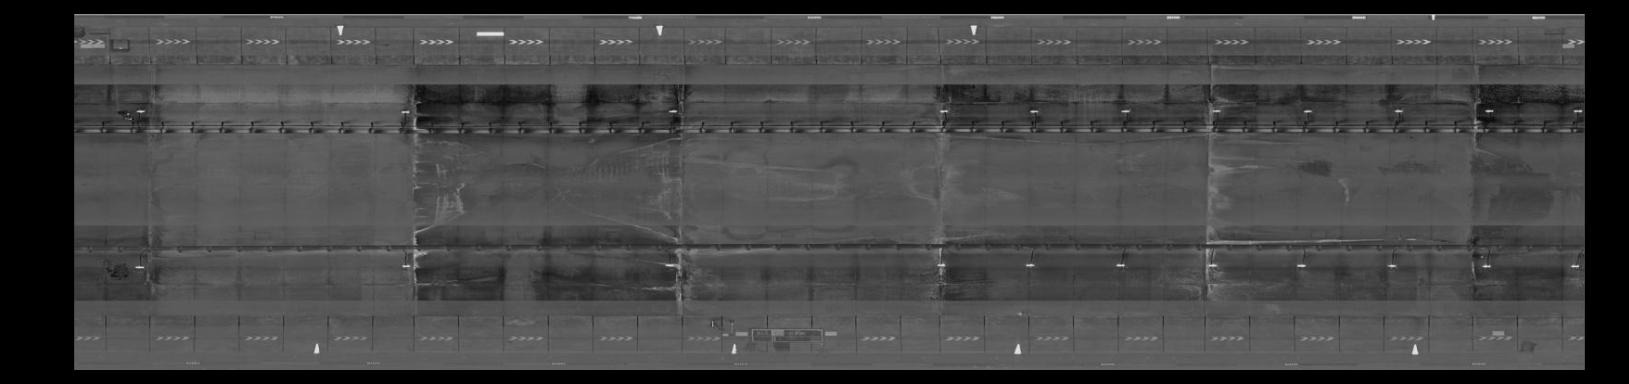light: (1381, 260, 1400, 272), (1027, 103, 1044, 116), (1020, 259, 1039, 271), (1386, 105, 1406, 115), (395, 260, 415, 271), (1206, 106, 1225, 116), (656, 260, 678, 269), (1474, 262, 1494, 271), (1479, 106, 1497, 116), (931, 260, 953, 269), (1297, 106, 1315, 115), (1116, 106, 1134, 115), (1202, 260, 1221, 270), (397, 107, 413, 117), (132, 105, 149, 115), (130, 263, 146, 273), (664, 105, 678, 116), (934, 106, 952, 115), (1566, 260, 1581, 271), (1112, 260, 1129, 269), (1570, 105, 1583, 115), (1292, 262, 1310, 269)
